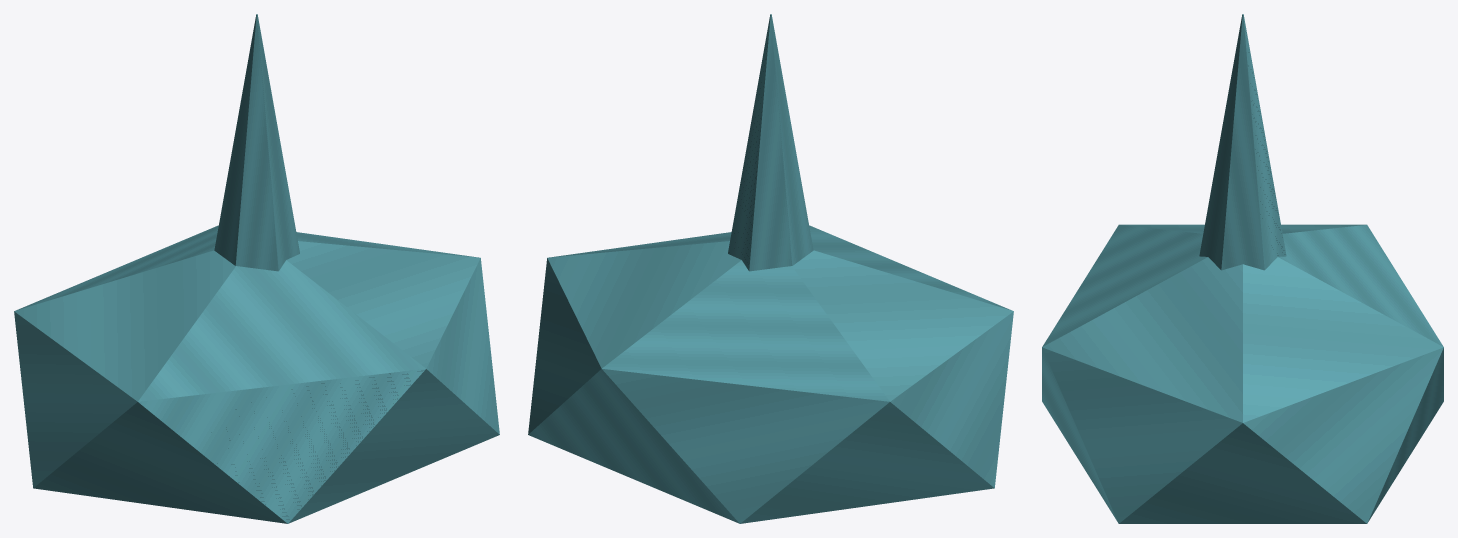
File: fracture.glb
3 renders of one model, left to right at view 1: azimuth 30°, elevation 25°; view 2: azimuth 150°, elevation 25°; view 3: azimuth 270°, elevation 25°, orthographic.
Parts seen in each view (by area): view 1: gear_fracture; view 2: gear_fracture; view 3: gear_fracture.
Boxes of the visible parts, box(x1,y1,x2,y2) form: gear_fracture: box(14, 14, 499, 523); gear_fracture: box(528, 14, 1013, 523); gear_fracture: box(1042, 14, 1443, 523).
Size of the model in its own units: 0.483 by 0.51 by 0.3743.
1 material, 1 textured.
